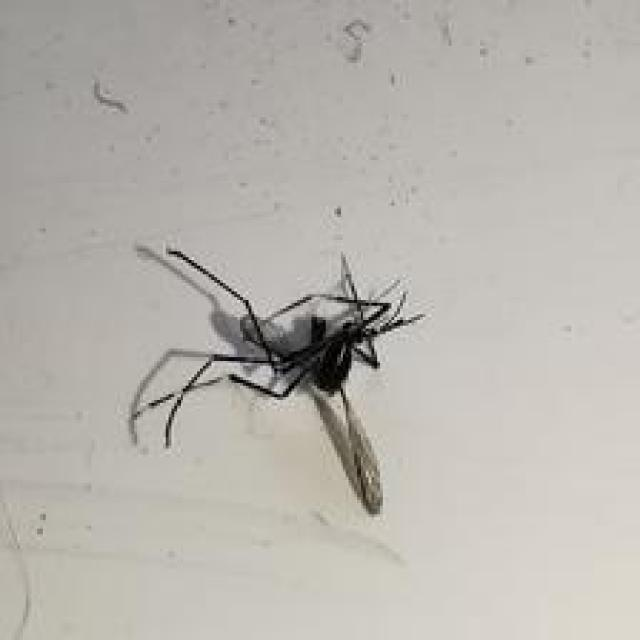Aedes albopictus: (126, 240, 426, 517)
